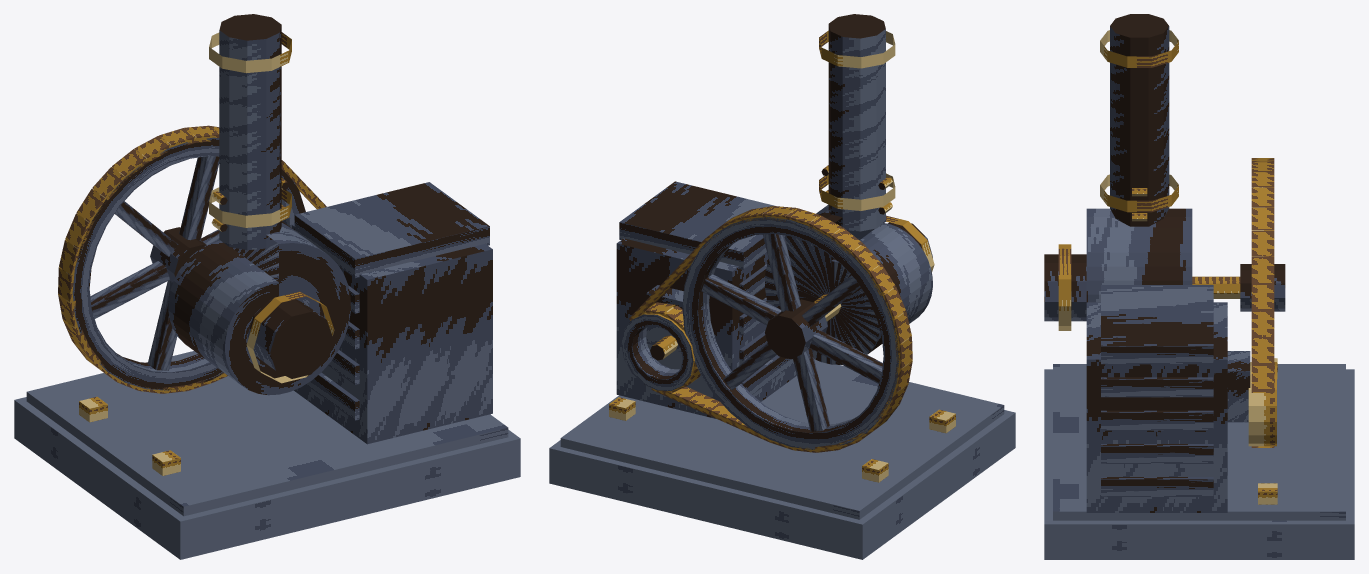
File: IND-07_Bomba_de_achique.gltf
3 views of the same model, side by side, from view 1: azimuth 30°, elevation 25°; view 2: azimuth 150°, elevation 25°; view 3: azimuth 270°, elevation 25° (orthographic). The views are drawn at different scales.
Parts seen in each view (by area): view 1: IND-07_Bomba_de_achique-col; view 2: IND-07_Bomba_de_achique-col; view 3: IND-07_Bomba_de_achique-col.
Part boxes in pixels (box(x1,y1,x2,y2)): IND-07_Bomba_de_achique-col: box(14, 14, 520, 559); IND-07_Bomba_de_achique-col: box(549, 14, 1015, 559); IND-07_Bomba_de_achique-col: box(1044, 14, 1354, 559).
Size of the model in its own units: 2.6 by 3.4 by 2.2.
1 material, 1 textured.
